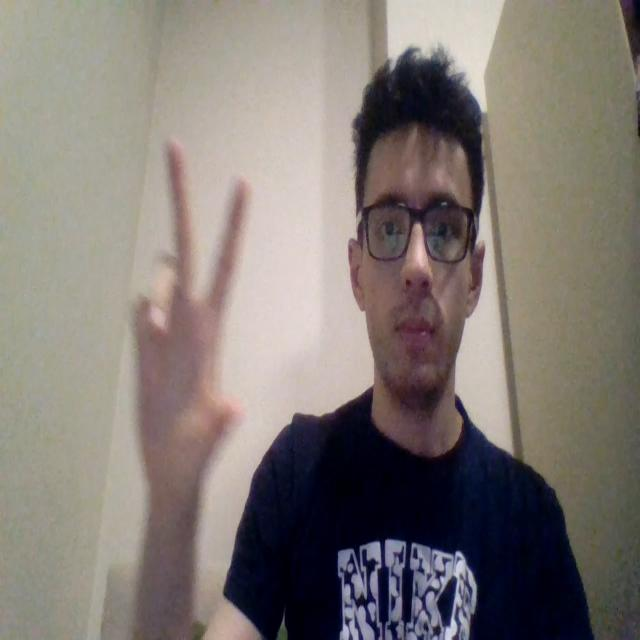no: (117, 132, 253, 520)
